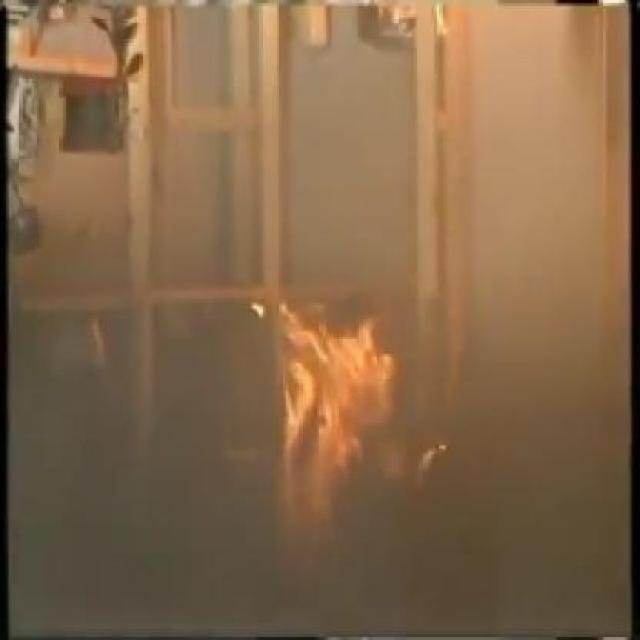fire: (233, 290, 467, 593)
